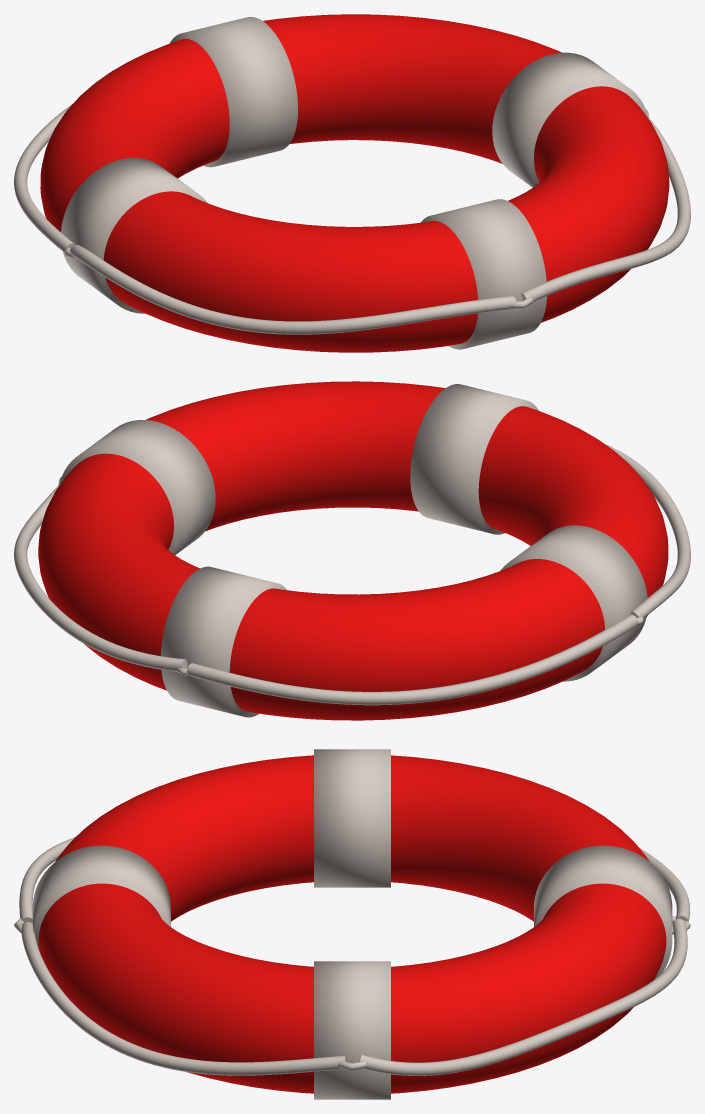
File: asset.glb
The picture shows the model from 3 angles, top to bottom: view 1: azimuth 30°, elevation 25°; view 2: azimuth 150°, elevation 25°; view 3: azimuth 270°, elevation 25°; orthographic projection.
Parts seen in each view (by area): view 1: Torus, Cylinder.004, Cylinder.003, Cylinder, Cylinder.002, NurbsPath.002, NurbsPath.003, NurbsPath.001; view 2: Torus, Cylinder.003, Cylinder.004, Cylinder, Cylinder.002, NurbsPath.001, NurbsPath, NurbsPath.002; view 3: Torus, Cylinder.002, Cylinder, Cylinder.004, Cylinder.003, NurbsPath.003, NurbsPath, NurbsPath.002, NurbsPath.001.
Boxes of the visible parts, bbox=[...] form: Torus: bbox=[40, 14, 669, 352]; Cylinder.004: bbox=[169, 17, 297, 167]; Cylinder.003: bbox=[421, 199, 546, 349]; Cylinder: bbox=[492, 52, 648, 187]; Cylinder.002: bbox=[61, 158, 207, 313]; NurbsPath.002: bbox=[70, 245, 516, 334]; NurbsPath.003: bbox=[521, 117, 690, 301]; NurbsPath.001: bbox=[14, 104, 75, 252]; Torus: bbox=[38, 381, 668, 720]; Cylinder.003: bbox=[410, 384, 538, 534]; Cylinder.004: bbox=[160, 566, 286, 717]; Cylinder: bbox=[59, 420, 215, 554]; Cylinder.002: bbox=[500, 525, 647, 681]; NurbsPath.001: bbox=[187, 615, 638, 705]; NurbsPath: bbox=[14, 484, 187, 671]; NurbsPath.002: bbox=[605, 444, 690, 618]; Torus: bbox=[38, 755, 666, 1093]; Cylinder.002: bbox=[314, 749, 390, 887]; Cylinder: bbox=[314, 961, 390, 1099]; Cylinder.004: bbox=[534, 845, 672, 979]; Cylinder.003: bbox=[32, 845, 170, 949]; NurbsPath.003: bbox=[21, 922, 346, 1075]; NurbsPath: bbox=[359, 919, 687, 1075]; NurbsPath.002: bbox=[19, 837, 75, 923]; NurbsPath.001: bbox=[639, 847, 690, 921].
Bounding box in the file's own units: 7.09 × 1.45 × 7.09.
